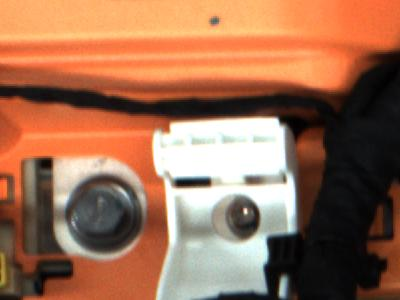nut_b: (65, 174, 152, 253)
